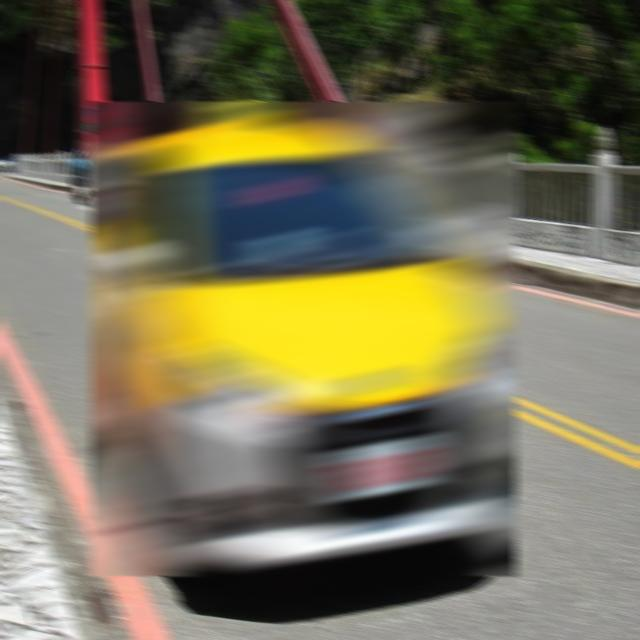Taxi: (89, 103, 517, 575)
